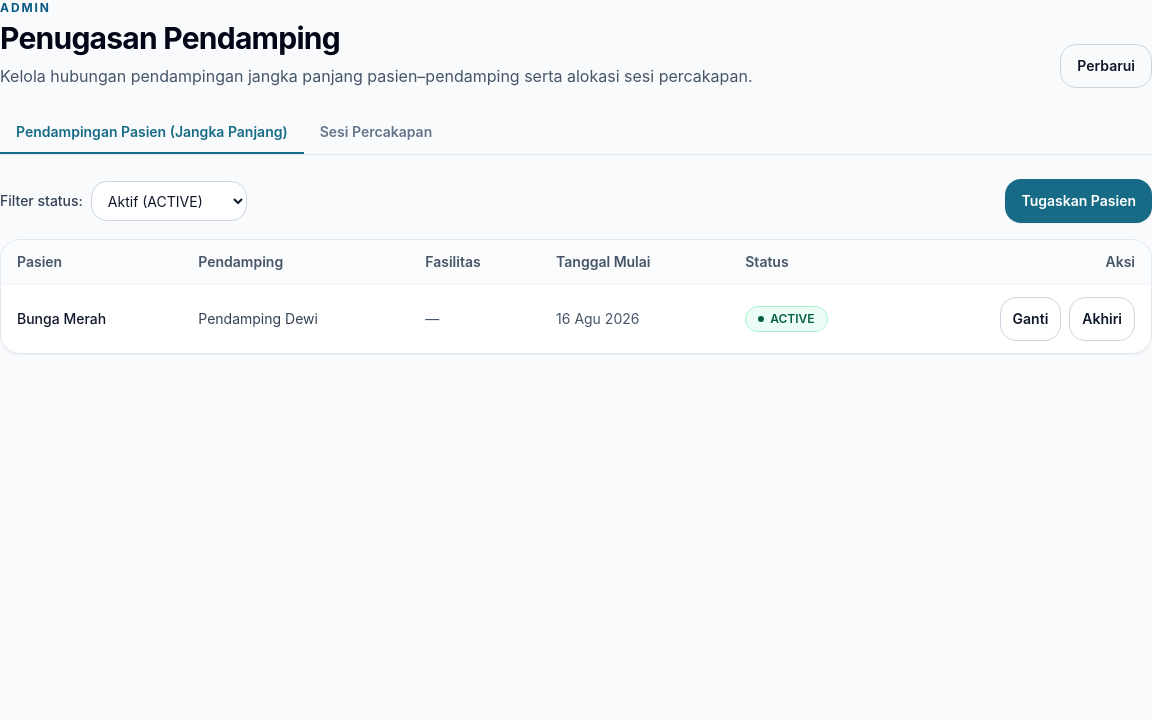
Test: AG-02 Frontend: Longitudinal Patient-Companion Assignments › Admin UI: AdminProfessionalAssignmentsPage › allows creating, reassigning, and ending an assignment
The width and height of the screenshot is (1152, 720).
Expected: the text "Bunga Merah" is shown, [1, 285, 182, 353]
# Test Reassign action
Step 1. Click the button "Ganti" → (1030,319), box [1000, 297, 1061, 341]
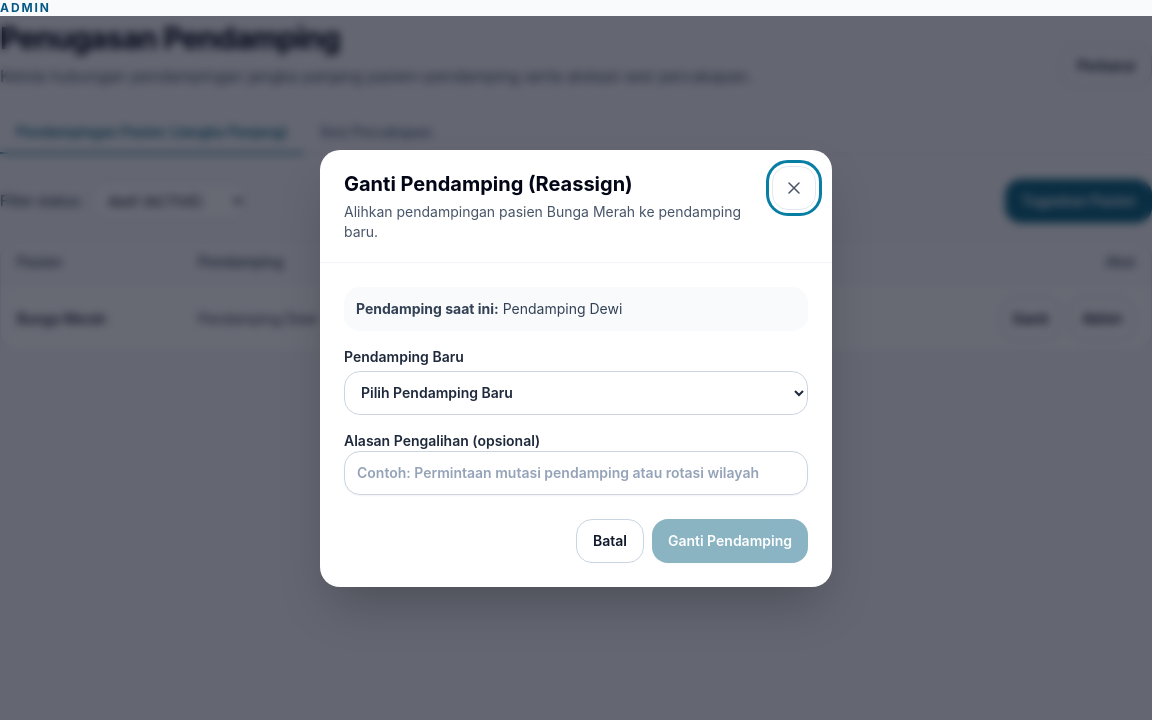
Expected: the heading "Ganti Pendamping (Reassign)" is shown, [344, 172, 633, 196]
Step 2. Select "Pendamping Budi (COMPANION)" in the dropdown named "Pilih pendamping baru" → (576,392), box [344, 370, 808, 414]
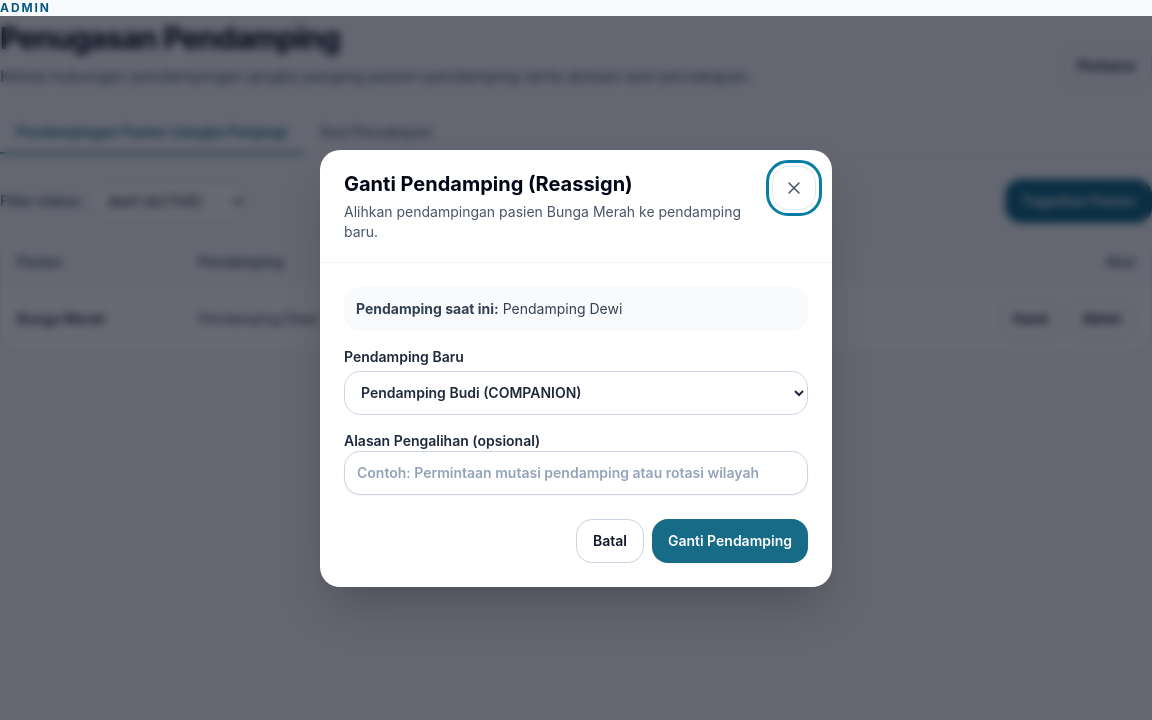
Step 3. Click the button "Ganti Pendamping" → (730,540), box [652, 518, 808, 562]
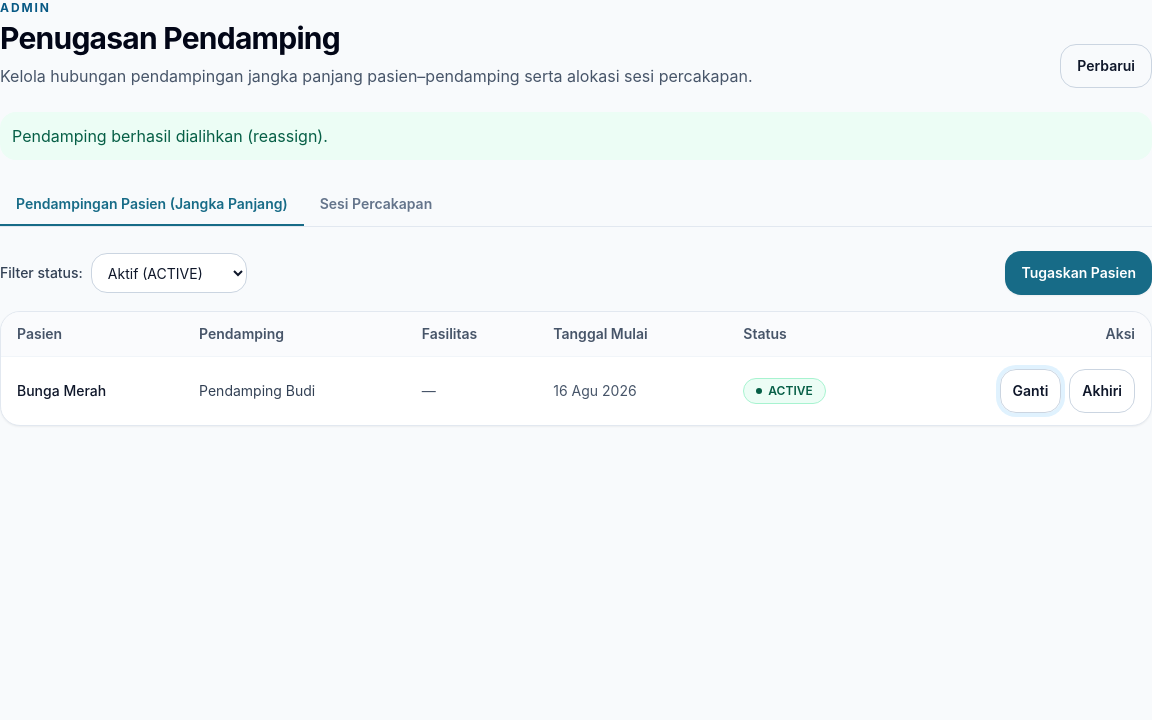
Expected: the text "Pendamping berhasil dialihkan (reassign)." is shown, [0, 112, 1151, 160]
# Test End action
Step 4. Click the button "Akhiri" → (1102,391), box [1069, 369, 1135, 413]
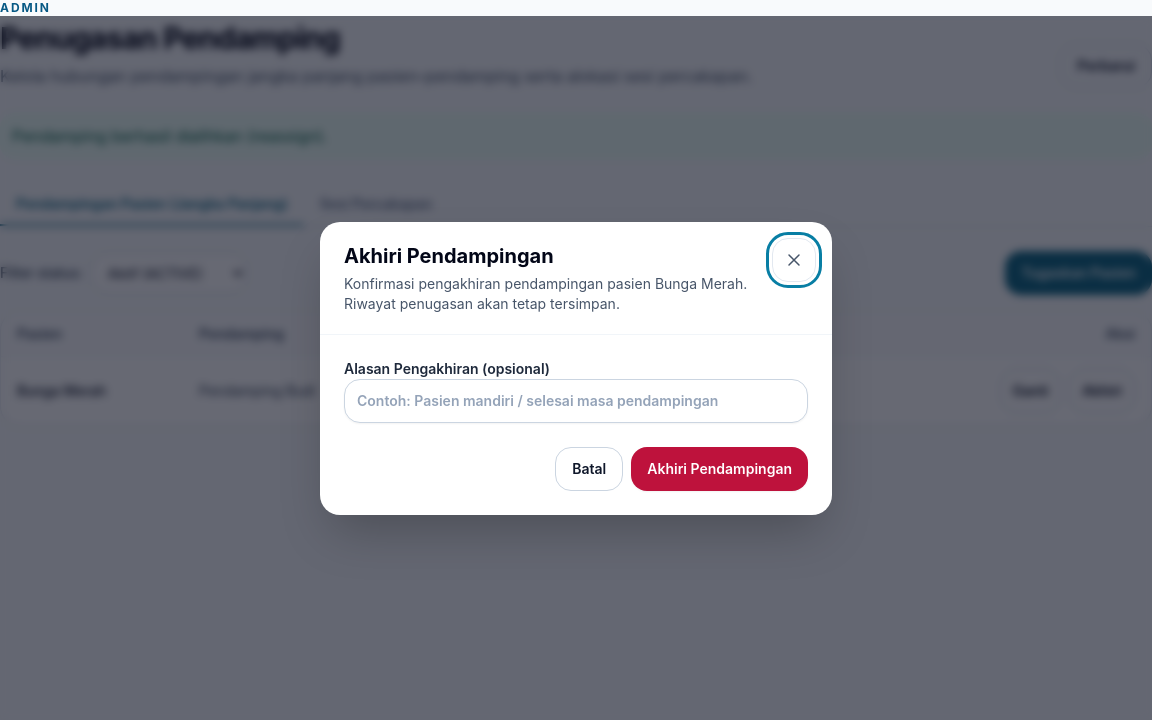
Expected: the heading "Akhiri Pendampingan" is shown, [344, 244, 554, 268]
Step 5. Click the button "Akhiri Pendampingan" → (720,468), box [631, 446, 808, 490]
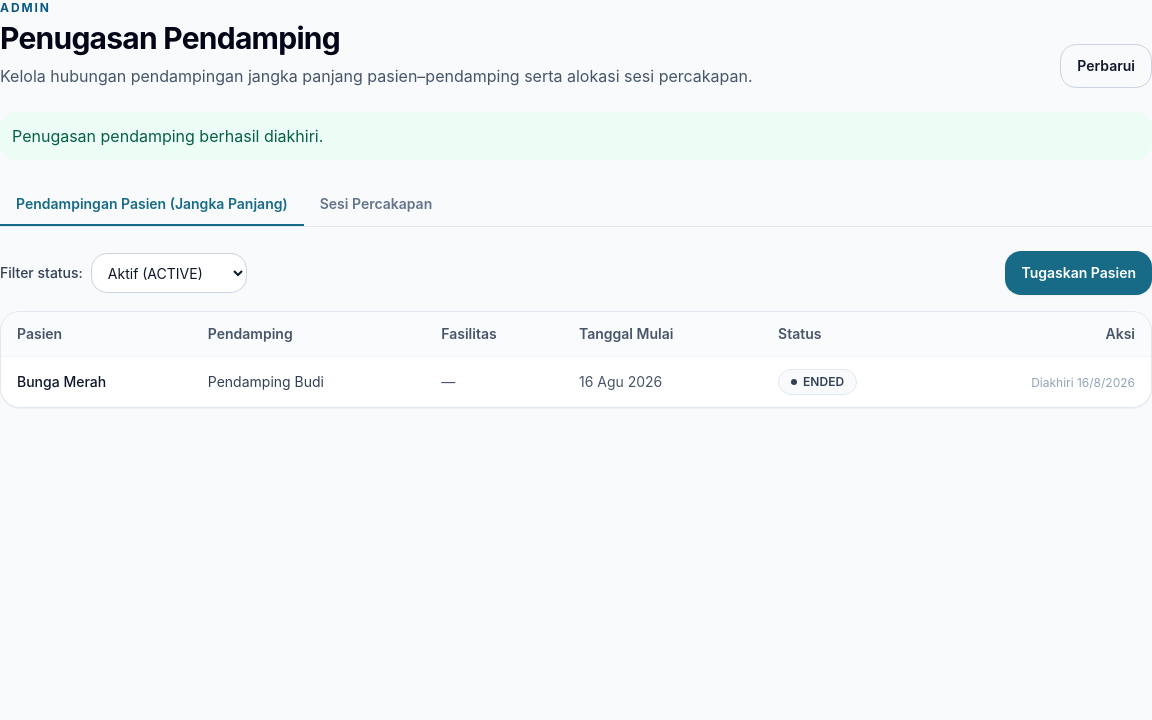
Expected: the text "Penugasan pendamping berhasil diakhiri." is shown, [0, 112, 1151, 160]
